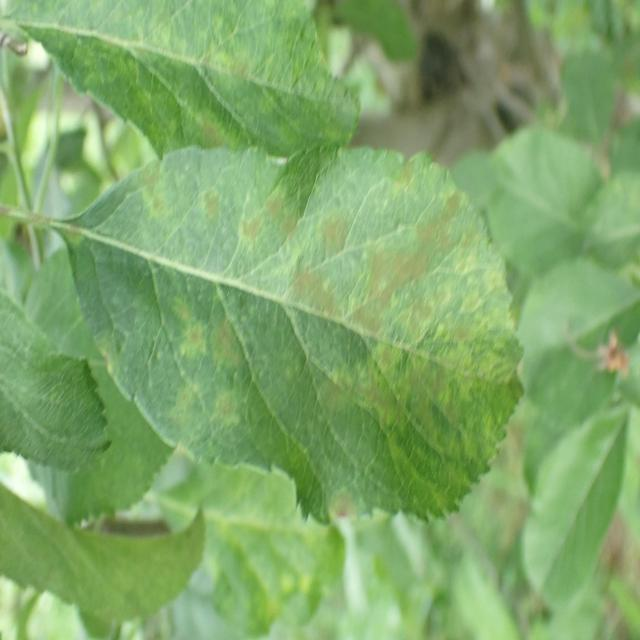scab: (58, 131, 520, 524), (55, 0, 338, 129)
